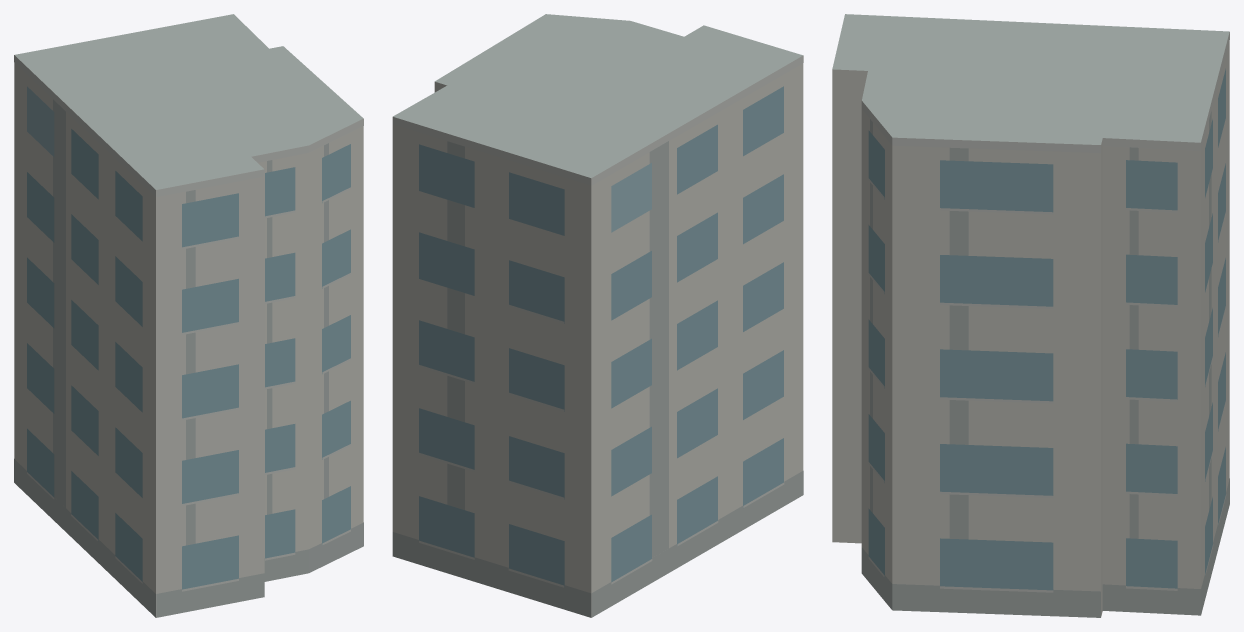
The model's file is survey-upis-32693194.glb.
3 renders of one model, left to right at view 1: azimuth 30°, elevation 25°; view 2: azimuth 150°, elevation 25°; view 3: azimuth 270°, elevation 25°, orthographic. The views are drawn at different scales.
Visible parts, largest first — view 1: survey-upis-32693194.tmp; view 2: survey-upis-32693194.tmp; view 3: survey-upis-32693194.tmp.
Boxes of the visible parts, left/top/right/bottom form: survey-upis-32693194.tmp: left=14, top=14, right=363, bottom=617; survey-upis-32693194.tmp: left=392, top=14, right=803, bottom=617; survey-upis-32693194.tmp: left=832, top=14, right=1229, bottom=617.
Bounding box in the file's own units: 8.46 × 14.2 × 10.83.
